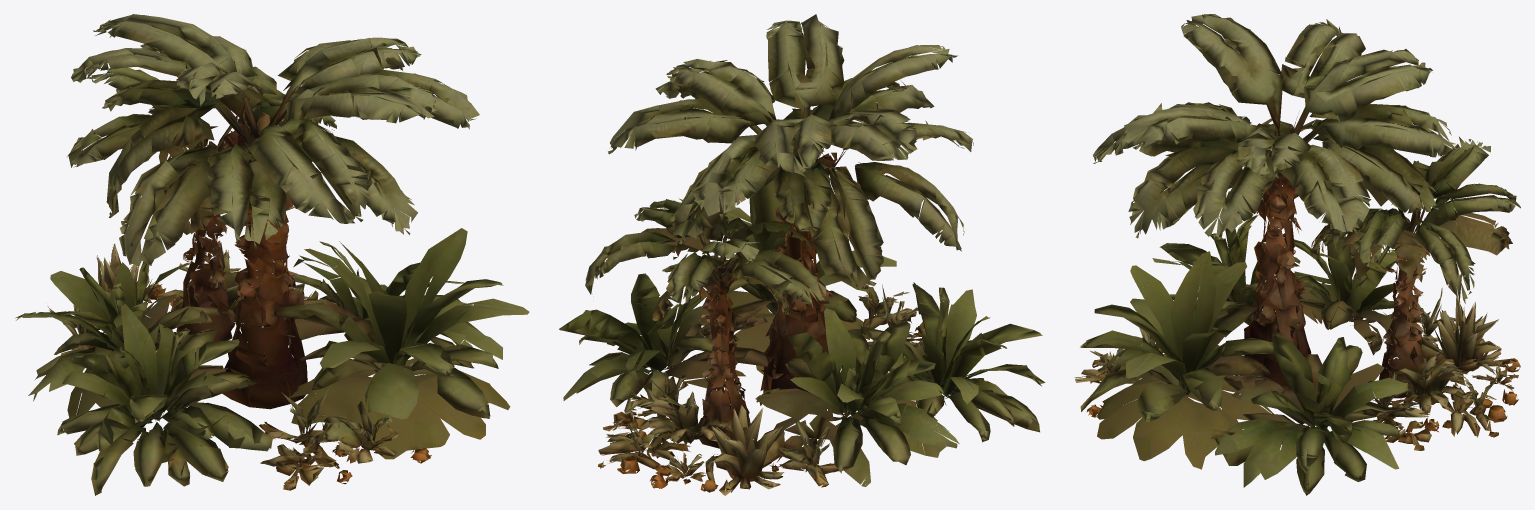
File: jun_fern_cluster_tree_fern_LOD1.glb
3 views of the same model, side by side, from view 1: azimuth 30°, elevation 25°; view 2: azimuth 150°, elevation 25°; view 3: azimuth 270°, elevation 25° (orthographic). The views are drawn at different scales.
Visible parts, largest first — view 1: tripo_node_423479ea-ce77-42fe-a1a3-5ccf0479997e; view 2: tripo_node_423479ea-ce77-42fe-a1a3-5ccf0479997e; view 3: tripo_node_423479ea-ce77-42fe-a1a3-5ccf0479997e.
Boxes of the visible parts, left/top/right/bottom form: tripo_node_423479ea-ce77-42fe-a1a3-5ccf0479997e: left=15, top=14, right=529, bottom=495; tripo_node_423479ea-ce77-42fe-a1a3-5ccf0479997e: left=559, top=14, right=1045, bottom=495; tripo_node_423479ea-ce77-42fe-a1a3-5ccf0479997e: left=1074, top=14, right=1520, bottom=495.
Size of the model in its own units: 1 by 0.8512 by 0.9994.
Materials: 1 (1 with a texture image).
